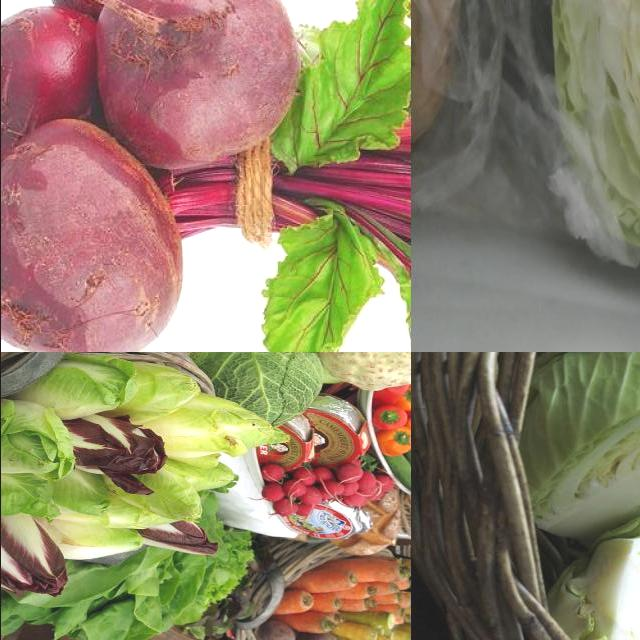beet: (1, 121, 182, 353), (100, 1, 297, 167), (1, 3, 106, 184), (54, 1, 231, 37)
cabbage: (543, 1, 640, 284), (504, 353, 640, 534), (534, 524, 640, 640)
